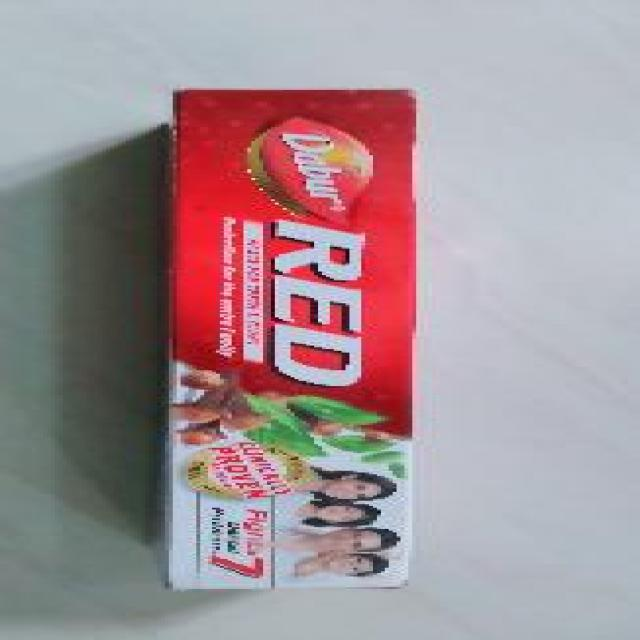tooth paste: (142, 76, 450, 591)
